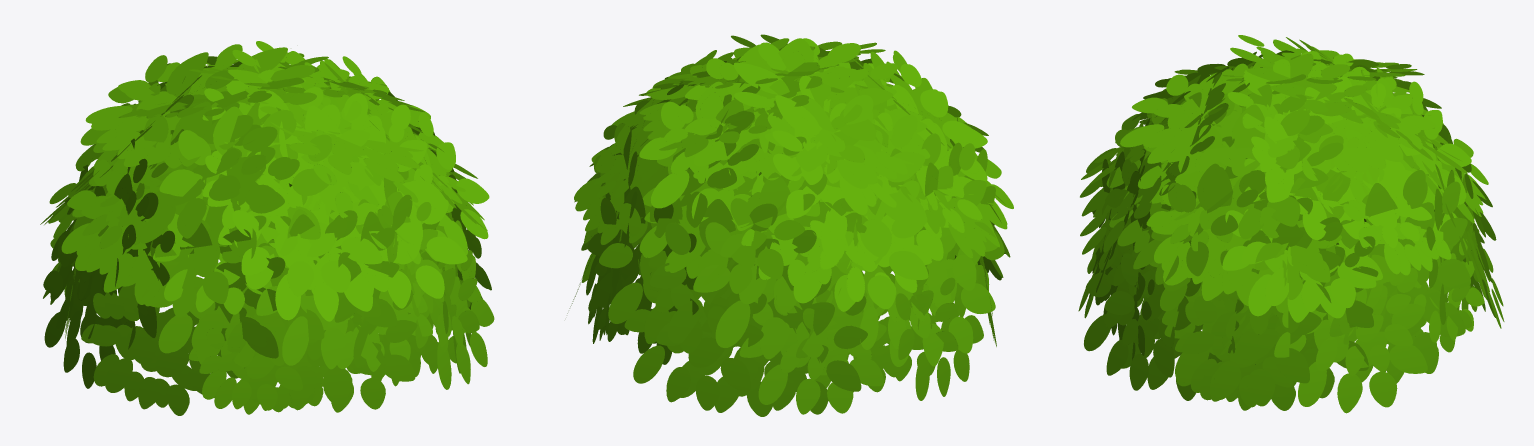
The model's file is decor-vallee-buisson-0.glb.
3 views of the same model, side by side, from view 1: azimuth 30°, elevation 25°; view 2: azimuth 150°, elevation 25°; view 3: azimuth 270°, elevation 25° (orthographic). The views are drawn at different scales.
Visible parts, largest first — view 1: decor:vallee:buisson:0; view 2: decor:vallee:buisson:0; view 3: decor:vallee:buisson:0.
Boxes of the visible parts, x1,y1,x2,y2 form: decor:vallee:buisson:0: [40, 41, 494, 415]; decor:vallee:buisson:0: [567, 34, 1013, 416]; decor:vallee:buisson:0: [1078, 35, 1504, 413].
Bounding box in the file's own units: 1.42 × 0.9 × 1.36.
1 material, 1 textured.
